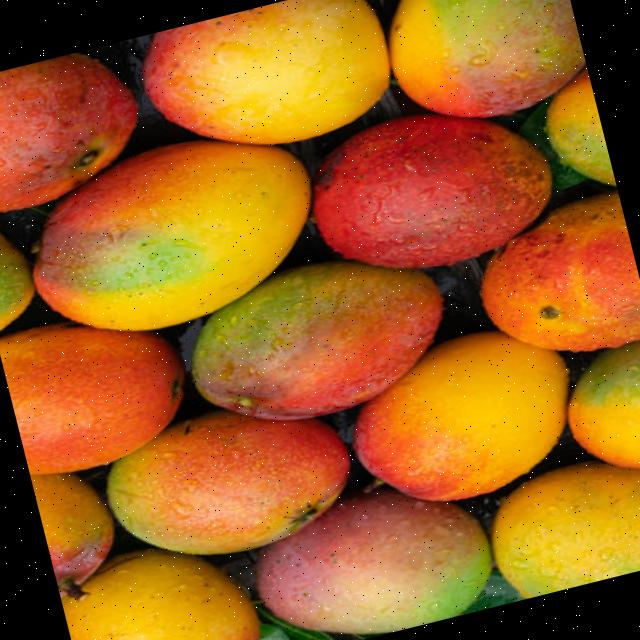mango: (31, 139, 310, 329), (191, 260, 441, 418), (311, 113, 551, 267), (352, 330, 567, 499), (141, 0, 389, 143), (105, 410, 349, 553), (255, 489, 490, 633), (0, 322, 182, 473), (479, 190, 640, 350), (387, 0, 583, 116), (0, 52, 136, 211), (491, 460, 640, 598), (60, 548, 259, 640), (567, 339, 640, 467)
